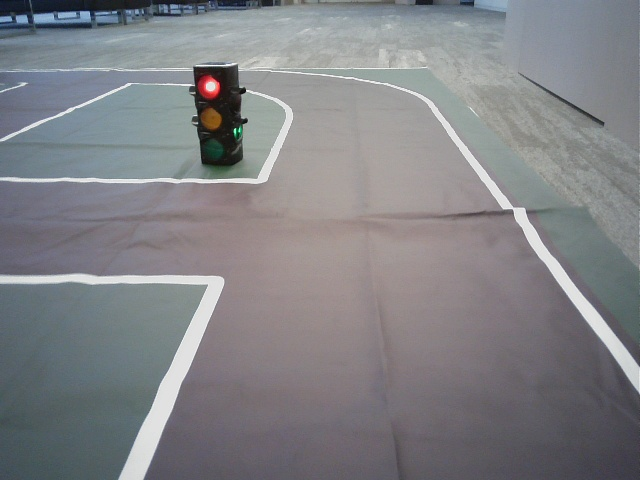red: (194, 70, 228, 162)
